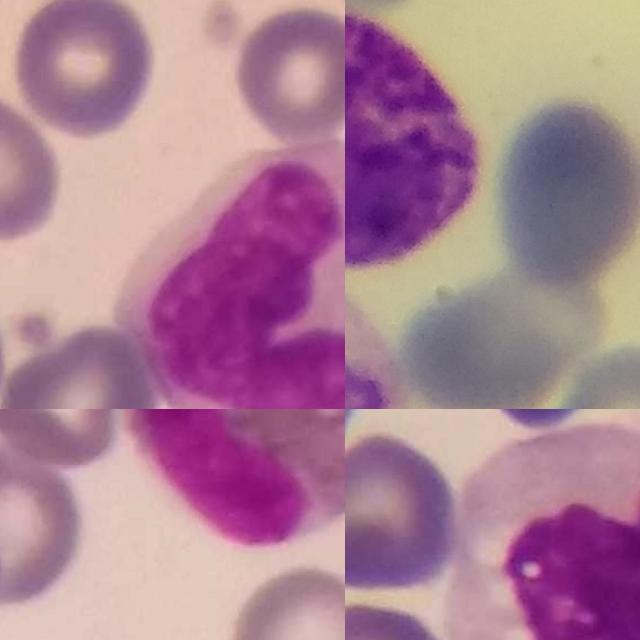Basophil: (345, 12, 483, 269)
Monocyte: (122, 137, 345, 409), (457, 424, 640, 640)
Neutrophil: (125, 409, 345, 544)
